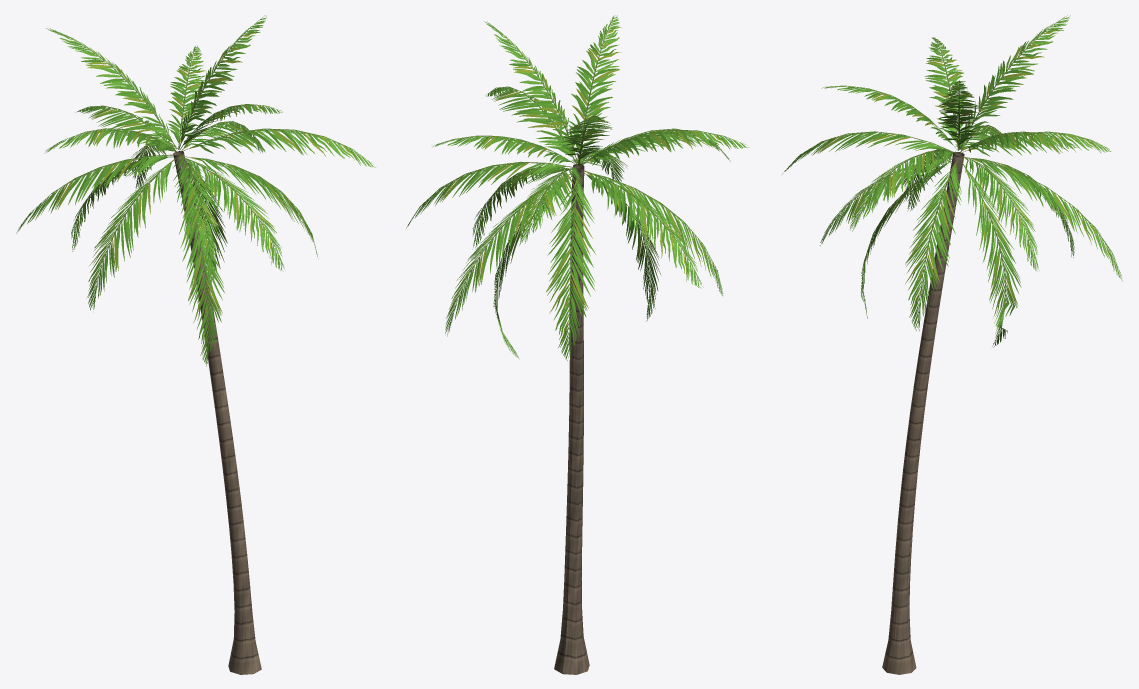
The model's file is palma_bl_a.glb.
The picture shows the model from 3 angles, left to right: view 1: azimuth 30°, elevation 25°; view 2: azimuth 150°, elevation 25°; view 3: azimuth 270°, elevation 25°; orthographic projection. The views are drawn at different scales.
Parts seen in each view (by area): view 1: palma_bl_a; view 2: palma_bl_a; view 3: palma_bl_a.
Part boxes in pixels (x1,y1,x2,y2): palma_bl_a: (16, 15, 375, 674); palma_bl_a: (406, 15, 749, 674); palma_bl_a: (782, 15, 1122, 674).
Bounding box in the file's own units: 4.98 × 10 × 5.09.
2 materials, 2 textured.
